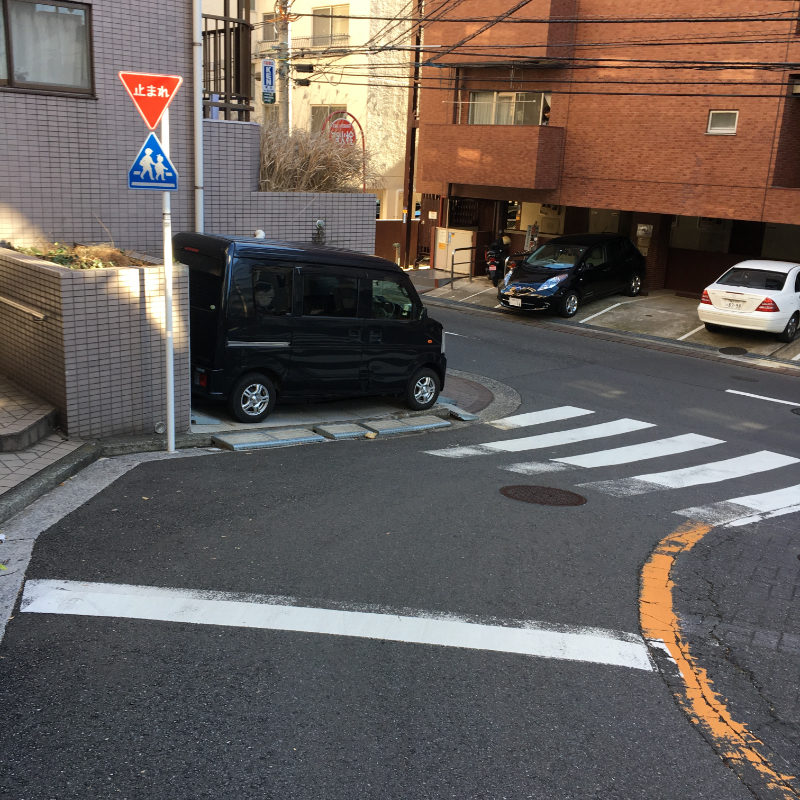STOP: (116, 69, 184, 130)
